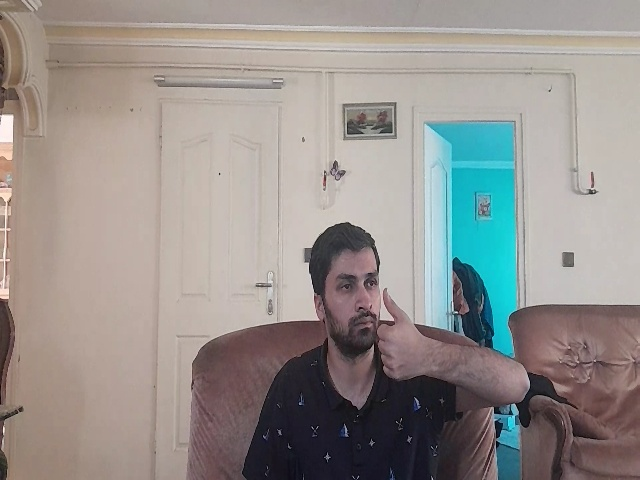ThumbsUp: (375, 289, 427, 380)
